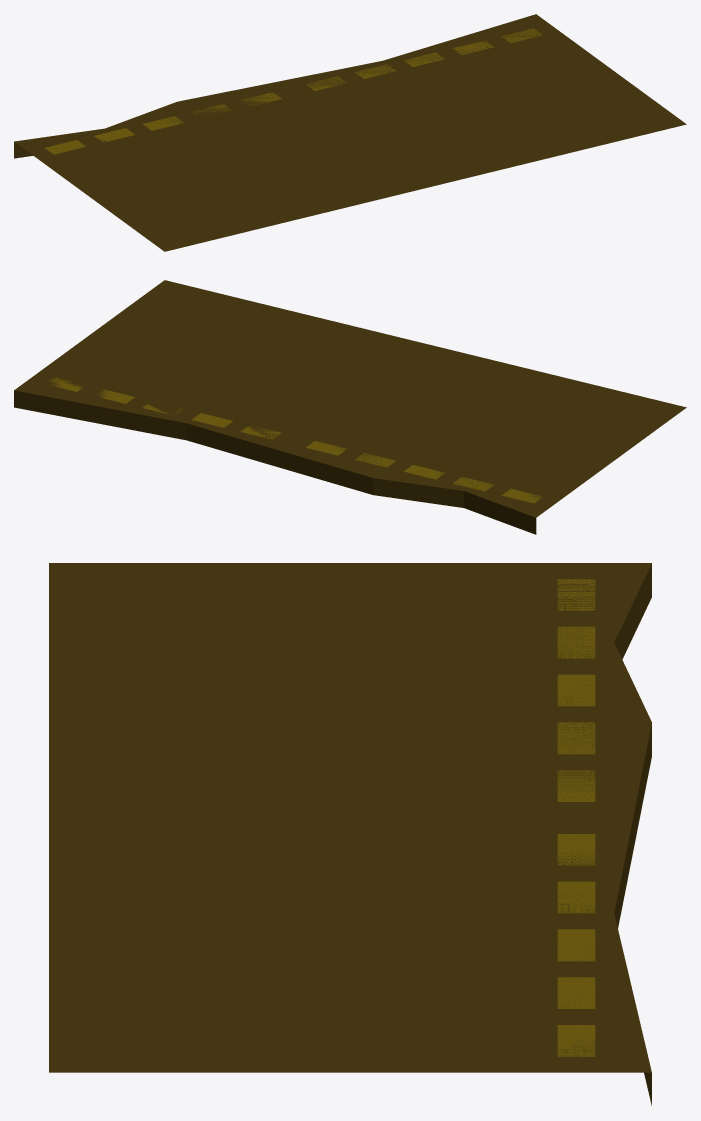
The model's file is model_loc_918_0.obj.
The picture shows the model from 3 angles, top to bottom: view 1: azimuth 30°, elevation 25°; view 2: azimuth 150°, elevation 25°; view 3: azimuth 270°, elevation 25°; orthographic projection. The views are drawn at different scales.
Visible parts, largest first — view 1: 1117; view 2: 1117; view 3: 1117.
Boxes of the visible parts, x1,y1,x2,y2 form: 1117: (14, 14, 686, 251); 1117: (14, 280, 686, 534); 1117: (49, 563, 651, 1105).
Size of the model in its own units: 128 by 4 by 64.
